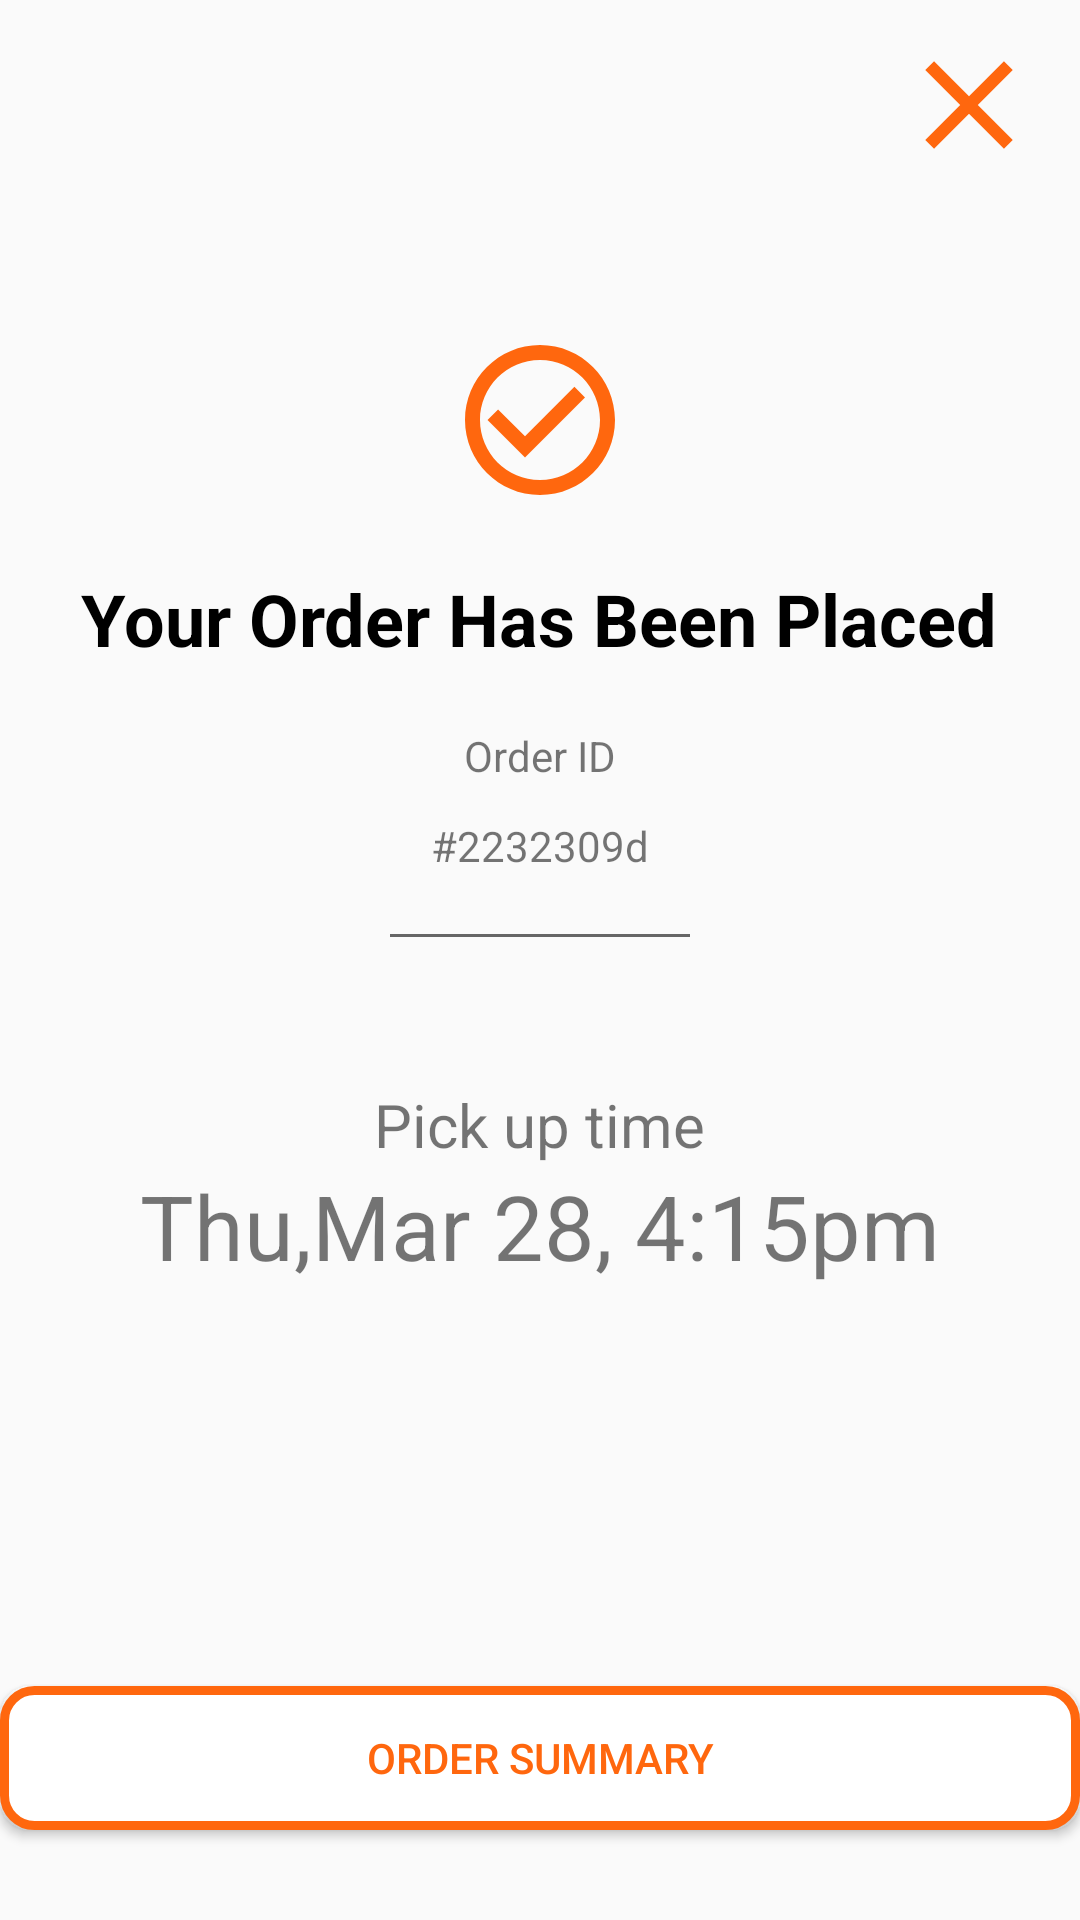

Where icons sit on this 1080x1920 app screen, as (x1, y1, x2, y2):
check circle: (465, 345, 615, 495)
Close: (925, 61, 1013, 149)
